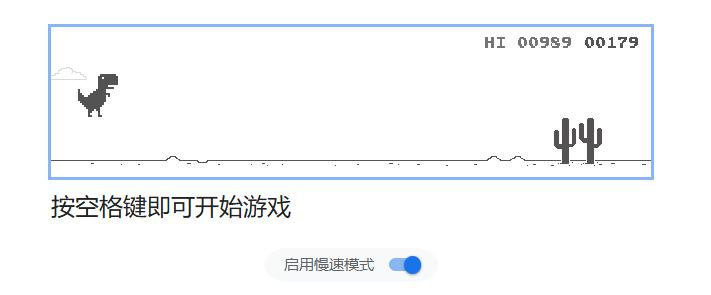cactus: (550, 116, 602, 164)
dino: (77, 71, 121, 118)
